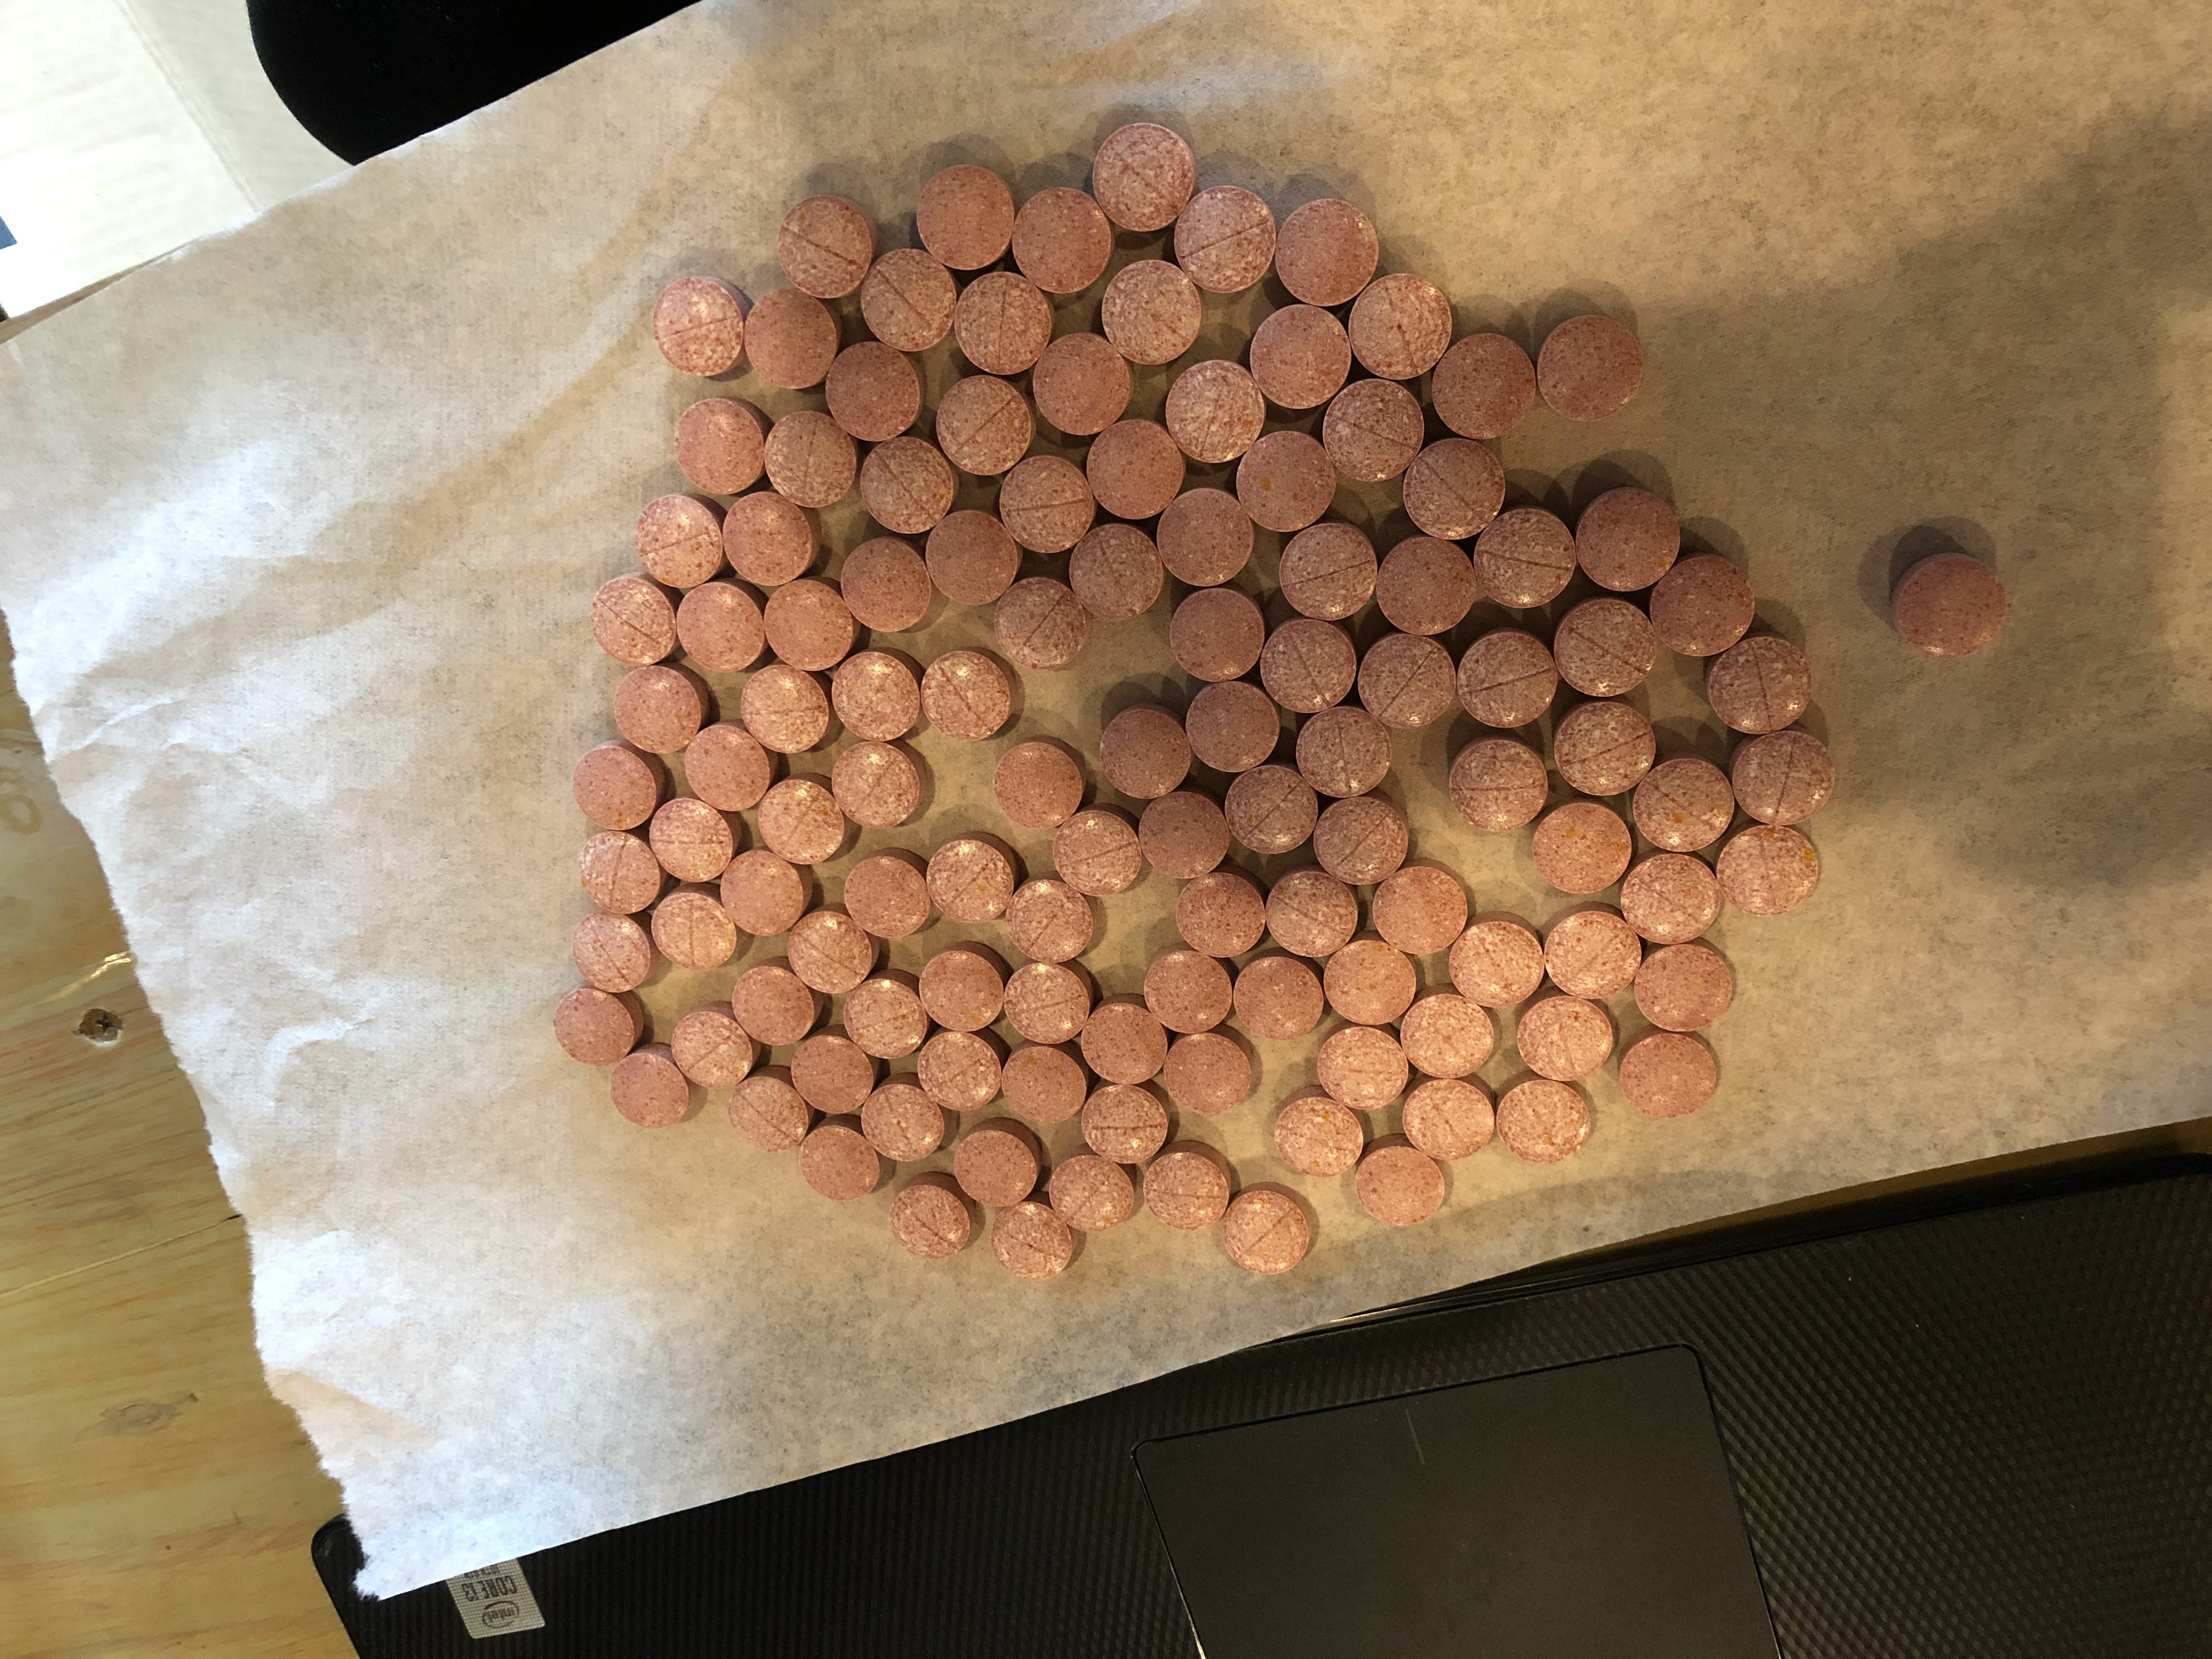tablet: (1885, 545, 2013, 666), (1083, 117, 1200, 237), (1533, 312, 1651, 429), (1641, 549, 1761, 662), (1423, 329, 1538, 446), (1571, 483, 1686, 598), (1003, 183, 1116, 300), (1341, 267, 1454, 383), (1315, 373, 1428, 488), (1271, 193, 1381, 312), (1702, 631, 1820, 741), (1097, 254, 1207, 371), (1245, 298, 1355, 415), (1170, 181, 1278, 300), (911, 160, 1019, 277), (1723, 727, 1843, 831), (1397, 434, 1510, 544), (949, 267, 1057, 382), (1028, 328, 1136, 443), (1625, 751, 1740, 859), (773, 192, 881, 305), (1160, 354, 1268, 467), (855, 242, 960, 359), (1625, 938, 1742, 1042), (1082, 415, 1191, 525), (1554, 592, 1663, 702), (756, 404, 864, 514), (735, 284, 841, 396), (1271, 519, 1383, 626), (1712, 821, 1827, 924), (1468, 507, 1578, 613), (932, 369, 1036, 481), (1066, 518, 1169, 631), (1231, 429, 1339, 535), (1372, 535, 1480, 641), (1453, 624, 1559, 732), (1550, 697, 1662, 800), (712, 488, 819, 594), (834, 528, 937, 638), (852, 432, 958, 537), (1153, 486, 1259, 591), (822, 338, 925, 446), (1541, 904, 1649, 1007), (650, 270, 751, 380), (1442, 915, 1552, 1016), (1529, 800, 1639, 901), (1355, 631, 1460, 735), (996, 450, 1099, 556), (1256, 615, 1362, 718), (1446, 734, 1554, 835), (1367, 861, 1477, 960), (1094, 699, 1197, 803), (1165, 584, 1270, 687), (1618, 850, 1726, 950), (989, 732, 1092, 835), (826, 647, 927, 751), (921, 505, 1022, 610), (1216, 762, 1322, 861), (667, 394, 770, 495), (1310, 789, 1413, 890), (1292, 704, 1395, 805), (671, 575, 770, 680), (1615, 1028, 1724, 1122), (610, 659, 711, 760), (993, 572, 1092, 674), (1264, 1082, 1369, 1180), (1179, 676, 1284, 774), (1510, 992, 1620, 1084), (759, 573, 857, 676), (921, 831, 1024, 929), (918, 643, 1015, 746), (735, 660, 836, 758), (1169, 866, 1270, 964), (1350, 1133, 1451, 1230), (587, 568, 683, 671), (1317, 936, 1421, 1030), (679, 718, 779, 816), (1214, 1183, 1313, 1281), (1136, 786, 1233, 885), (632, 490, 728, 591), (716, 845, 817, 941), (826, 737, 928, 831), (840, 847, 942, 941), (1261, 864, 1359, 962), (1049, 805, 1148, 901), (1310, 1025, 1413, 1117), (568, 737, 667, 831), (1397, 992, 1498, 1084), (1158, 1028, 1261, 1119), (916, 943, 1012, 1039), (1228, 951, 1325, 1046), (1400, 1073, 1498, 1168), (782, 903, 881, 995), (1137, 945, 1237, 1037), (1494, 1077, 1595, 1168), (1001, 871, 1097, 965), (1078, 993, 1172, 1089), (949, 1117, 1047, 1209), (1141, 1141, 1238, 1234), (996, 1037, 1090, 1131), (752, 774, 848, 866), (646, 791, 740, 884), (665, 999, 758, 1093), (888, 1169, 981, 1263), (646, 884, 742, 974), (1076, 1079, 1174, 1168), (550, 981, 651, 1066), (571, 828, 665, 918), (728, 960, 822, 1051), (604, 1039, 693, 1134), (1000, 958, 1096, 1047), (1042, 1148, 1139, 1236), (982, 1199, 1083, 1283), (796, 1114, 888, 1204), (840, 971, 932, 1061), (725, 1063, 813, 1155), (791, 1026, 880, 1117), (860, 1077, 953, 1164), (916, 1028, 1008, 1115), (568, 908, 655, 997)
